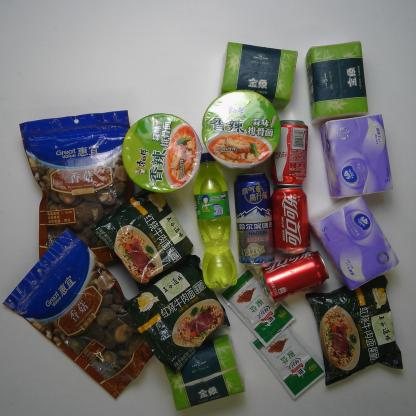Alcohol: (234, 171, 276, 272)
Dried Food: (3, 228, 153, 400), (15, 110, 136, 272)
Drink: (192, 149, 240, 290), (259, 252, 330, 303), (272, 186, 310, 255), (273, 118, 308, 187)
Instant Noodles: (126, 254, 232, 377), (304, 276, 406, 387), (90, 187, 196, 290), (122, 112, 204, 192), (201, 89, 281, 170)
Seasoner: (222, 267, 296, 348), (249, 334, 327, 400)
Tissue: (312, 195, 400, 293), (319, 113, 395, 200), (164, 334, 245, 410), (218, 40, 300, 110), (304, 39, 369, 124)
